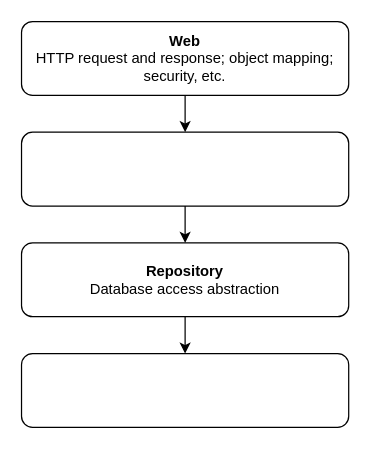
The diagram is 370 pixels wide and 449 high, and some of its shapes have lost their labels. The box of each missing label's shape, as (x1, y1, x2, y2) in pixels:
Database Data persistence: (20, 352, 349, 427)
Service Business logic, abstraction over raw model manipulation: (20, 131, 349, 206)
